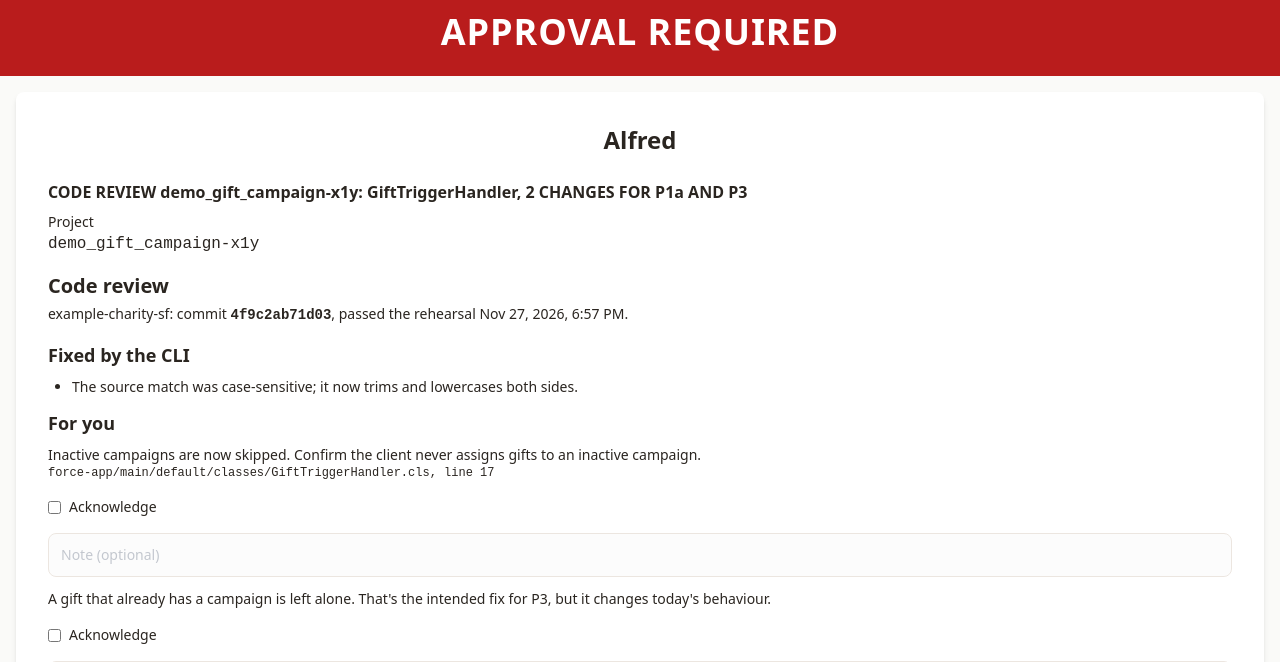
the code review page, on sample data › I reviewed this code is greyed until every For you finding is acknowledged; the red bar goes with it
The image size is (1280, 662).
Click the 1st checkbox with test id "review-ack" at coordinates (54, 507), box top-left (48, 500), bottom-right (61, 514)
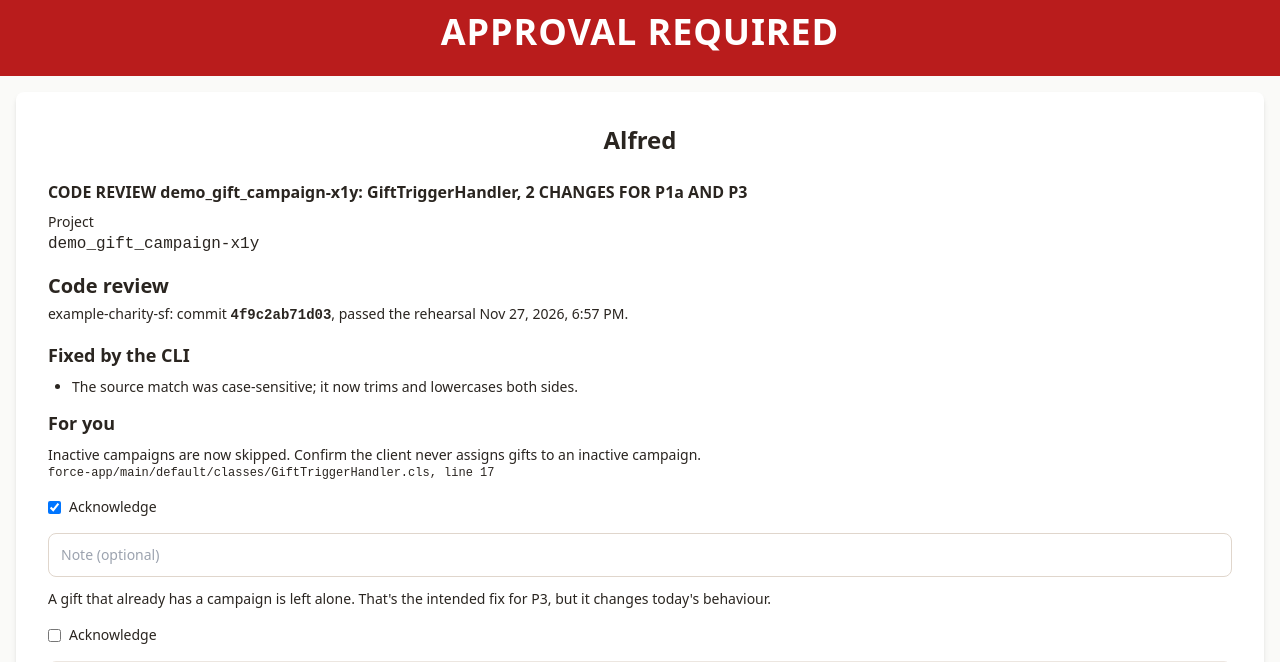
Click the 2nd checkbox with test id "review-ack" at coordinates (54, 635), box top-left (48, 628), bottom-right (61, 642)
(page scrolled)
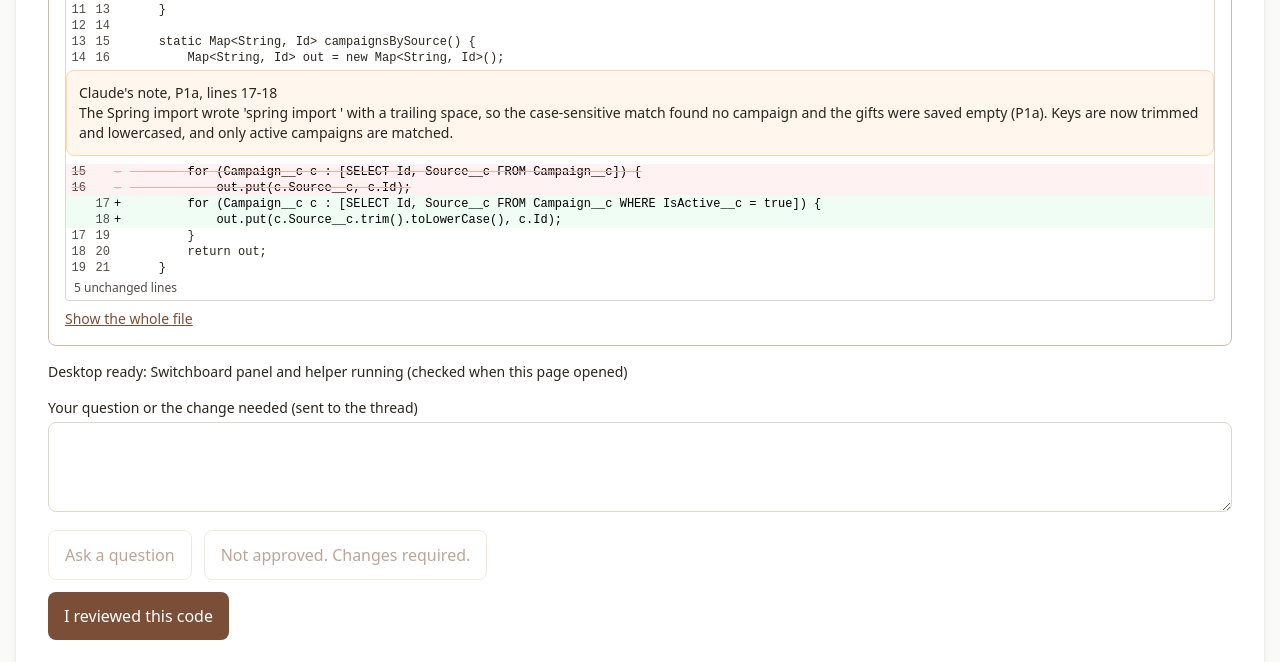
Expected: the button with test id "review-reviewed" is enabled
Click the button with test id "review-reviewed" at coordinates (138, 616), box top-left (48, 592), bottom-right (229, 640)
(page scrolled)
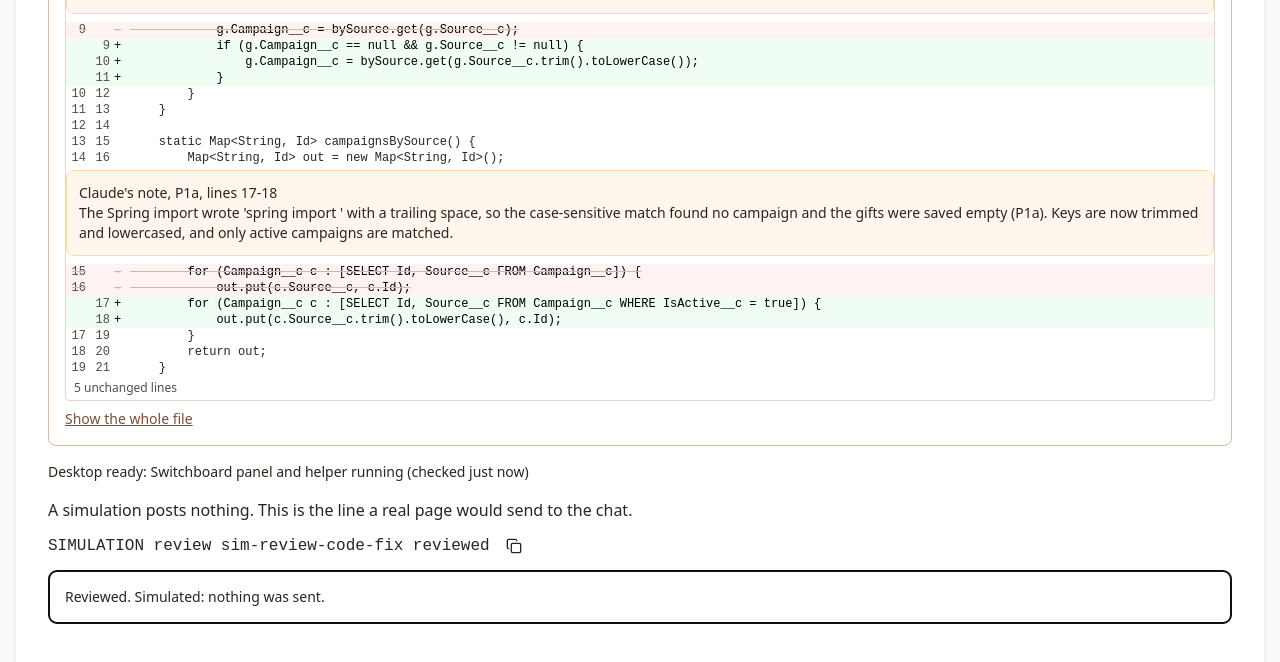
Expected: the element with test id "run-result-line" shows "SIMULATION review sim-review-code-fix reviewed", top-left (48, 537), bottom-right (490, 555)
Expected: the button with test id "review-reviewed" is gone
